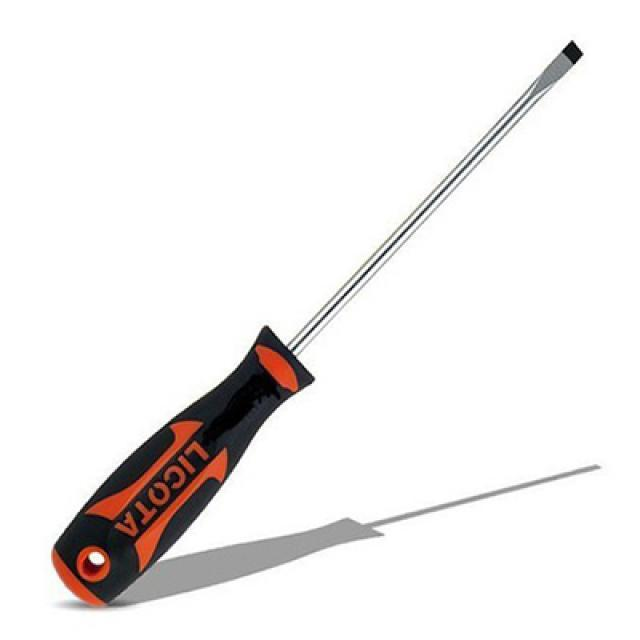screwdriver: (51, 38, 582, 610)
